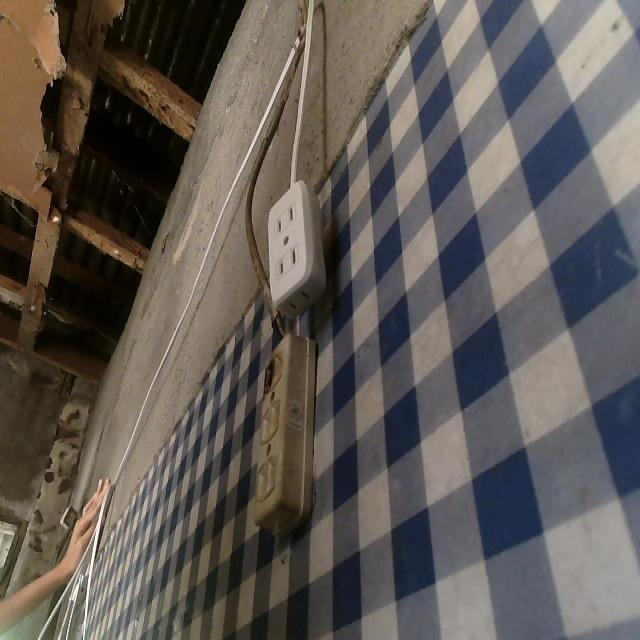-: (257, 351, 273, 393)
